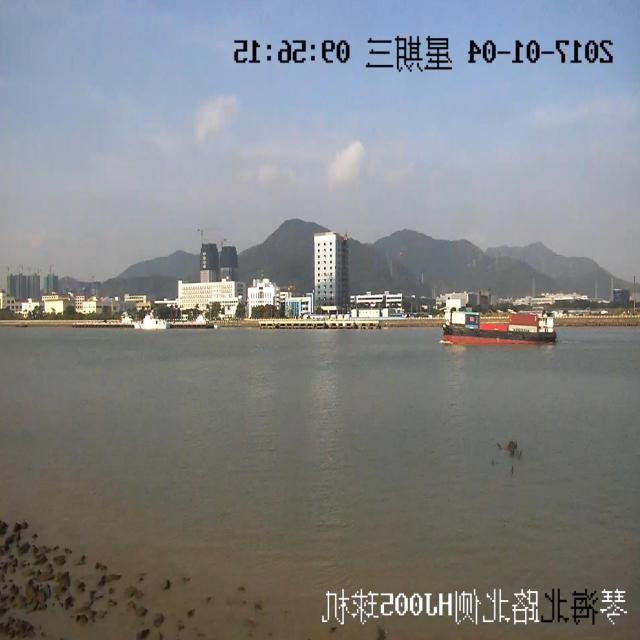cargoship: (431, 283, 564, 364)
